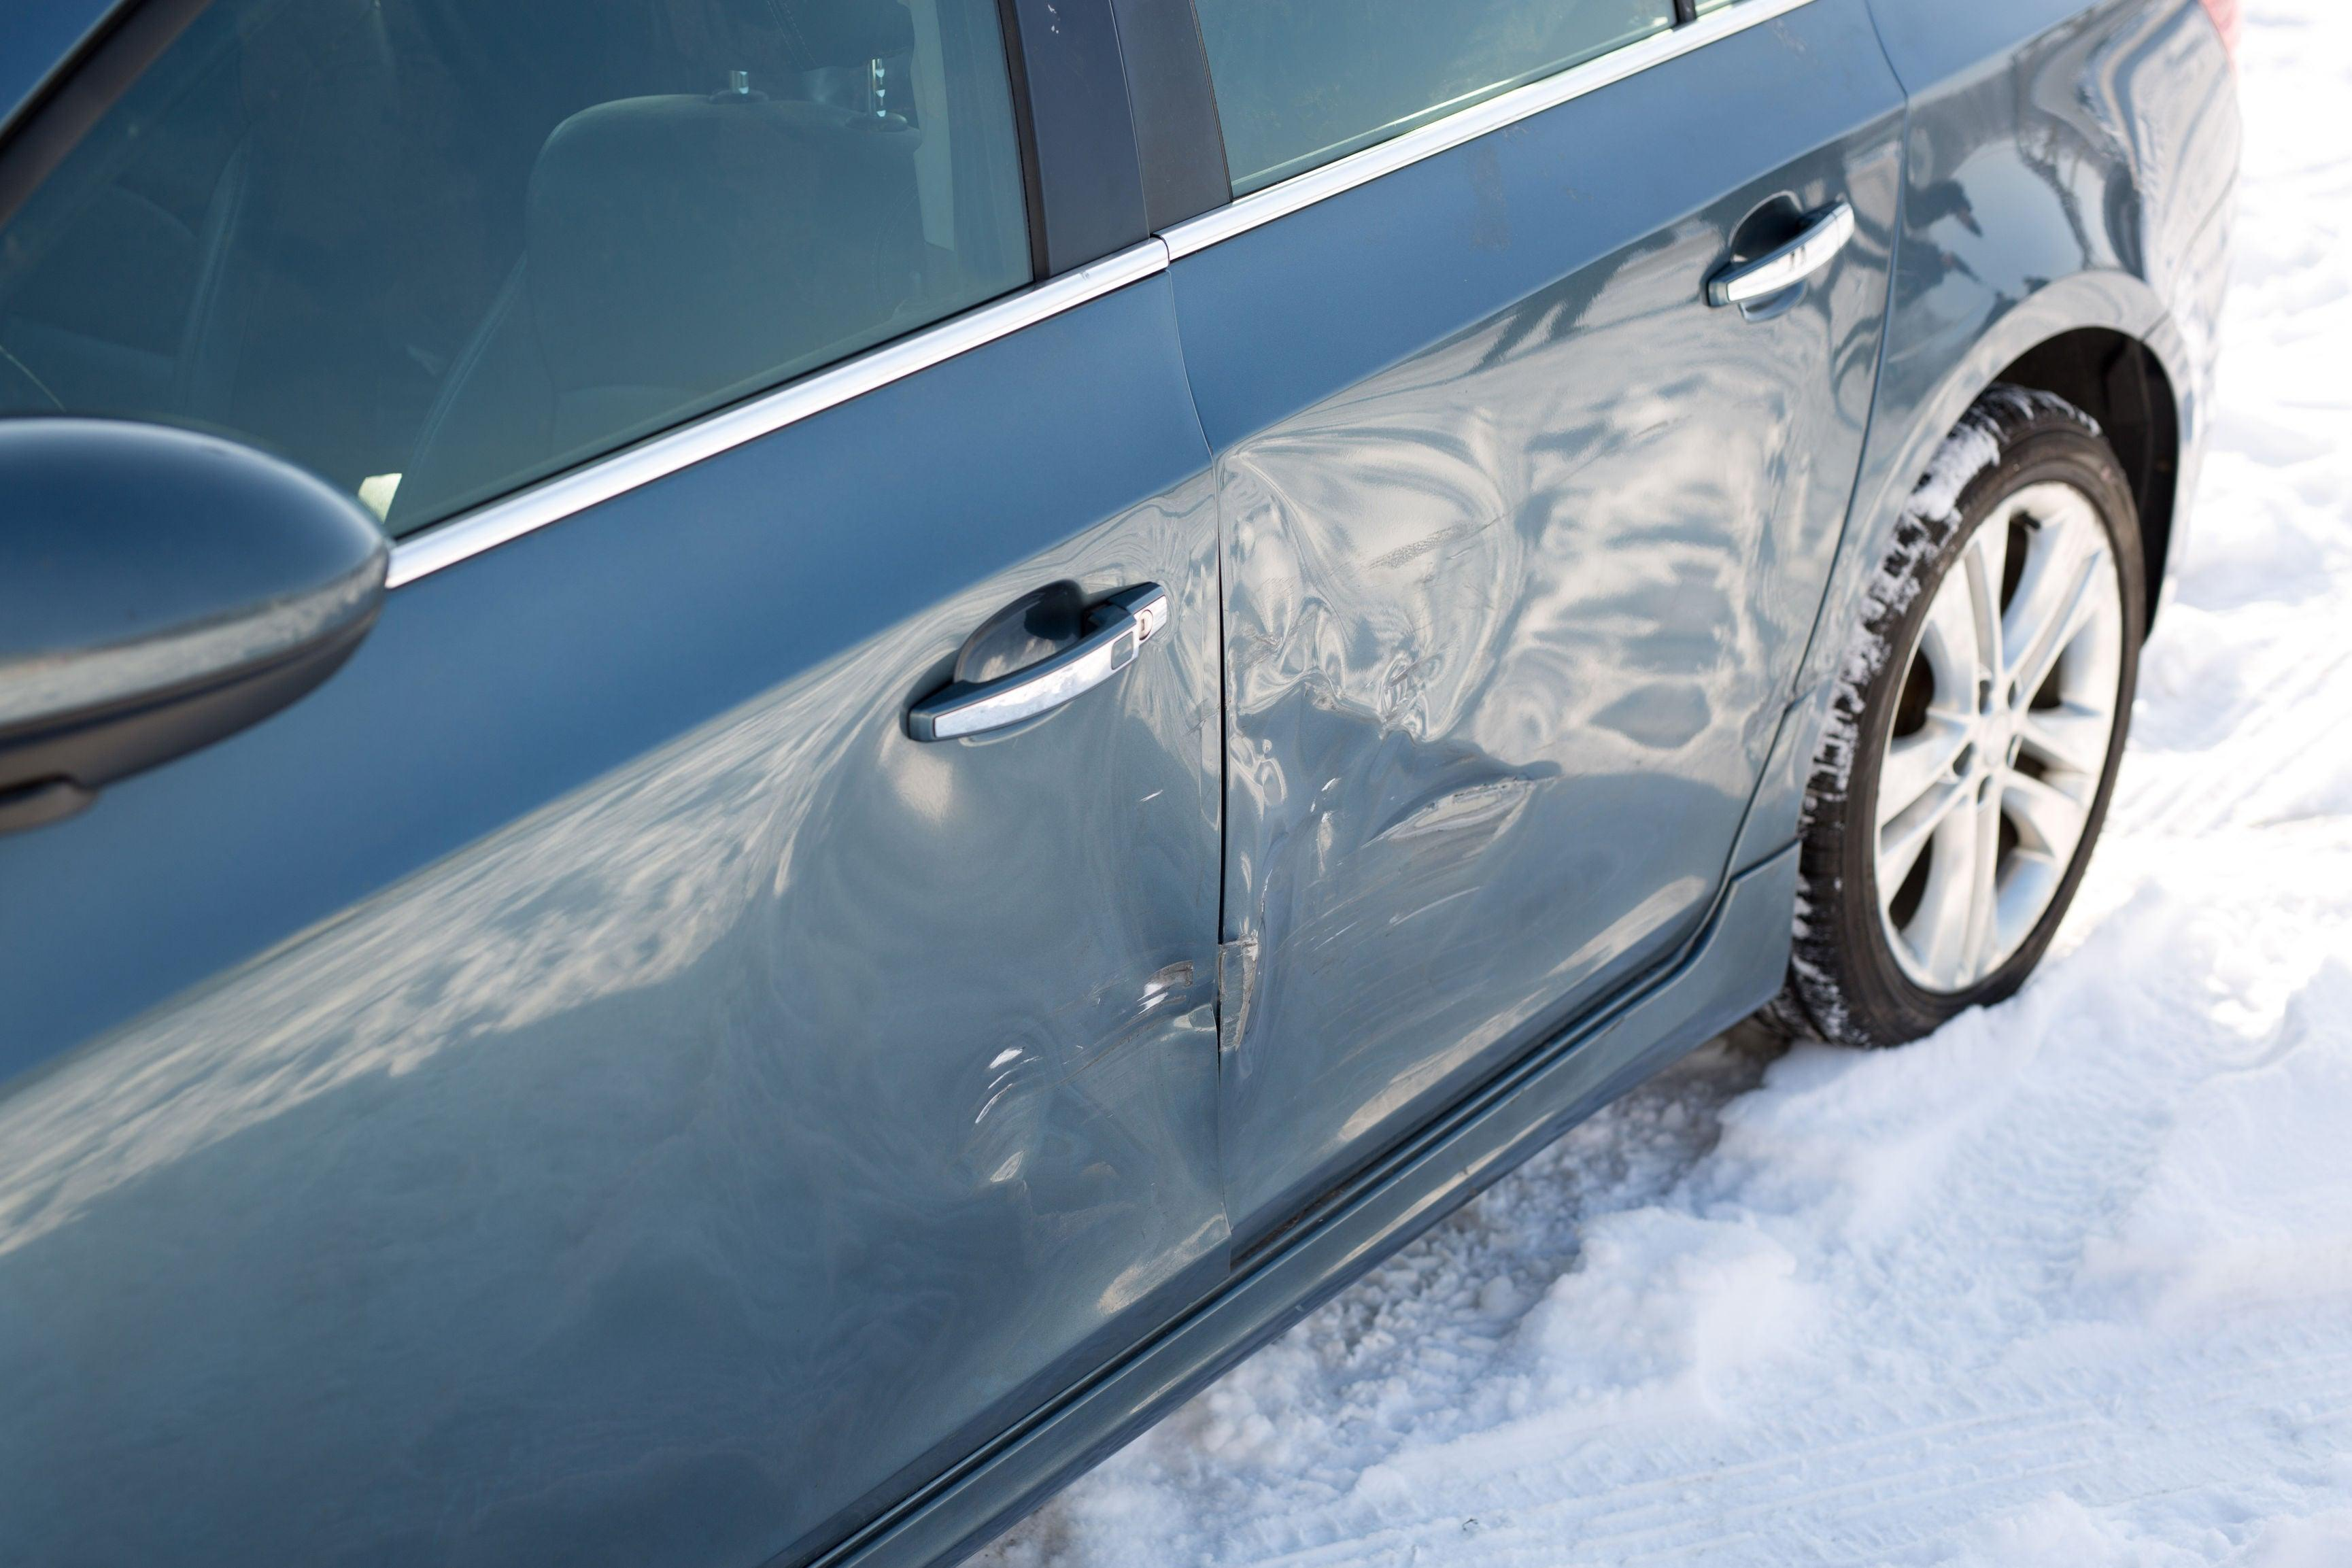dent: (975, 551, 1615, 1207)
scratch: (950, 744, 1382, 1211)
